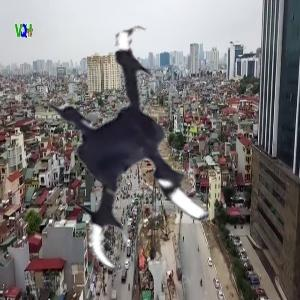drone: (17, 31, 266, 280)
